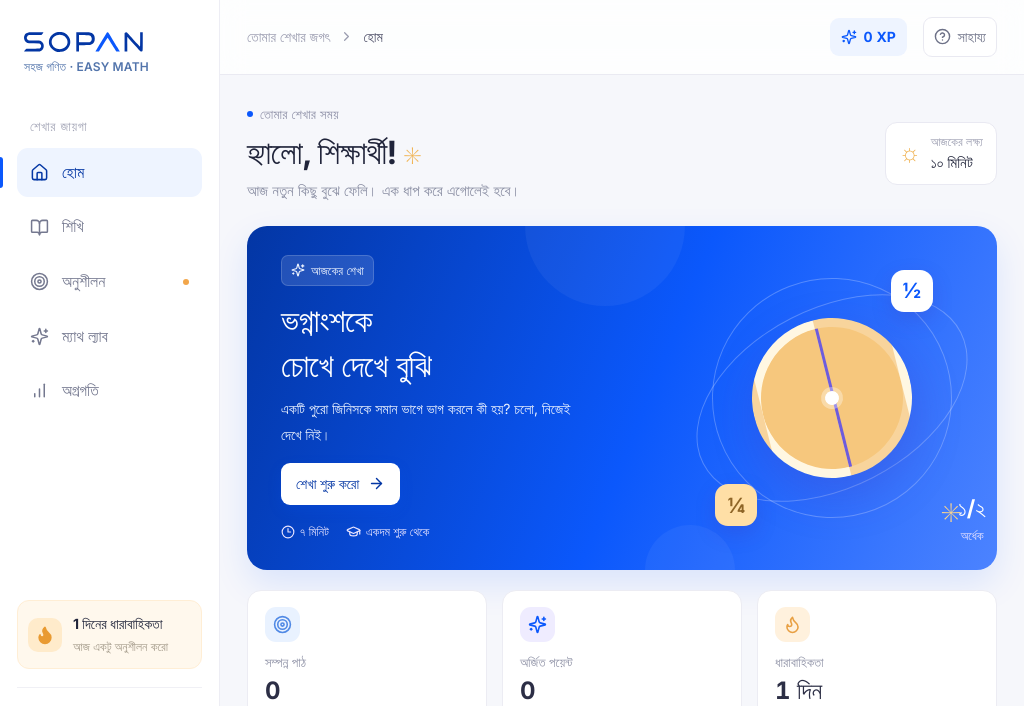
it: Easy Math learning flow › lets learners explore shape properties instead of only reading definitions
Step 1. Click the button "শিখি" → (110, 227), box [17,202,202,252]
(page scrolled)
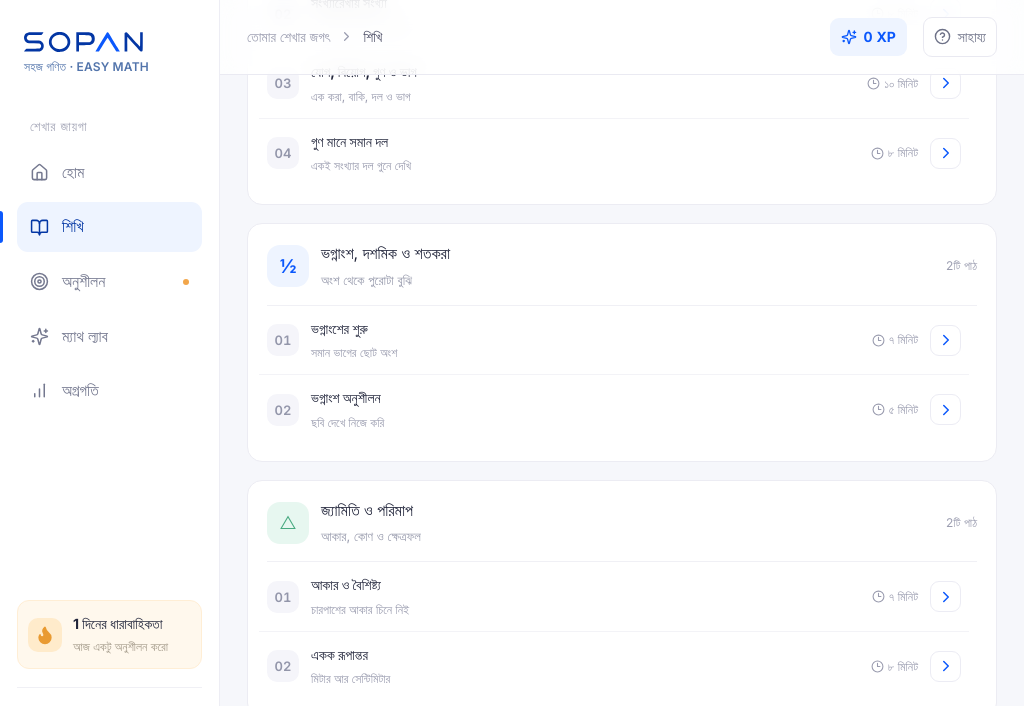
Step 2. Click the button with aria-label "আকার ও বৈশিষ্ট্য খুলুন" → (283, 597), box [259,562,969,632]
(page scrolled)
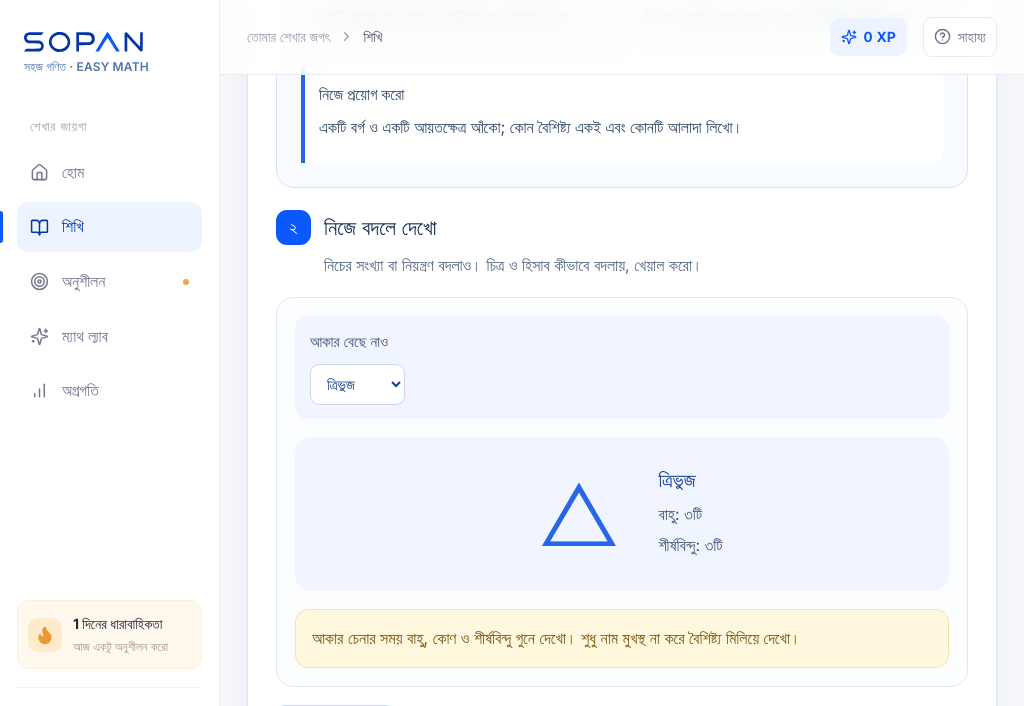
Expected: the dropdown labelled "আকার বেছে নাও" is shown
Step 3. Select "বর্গ" in the dropdown labelled "আকার বেছে নাও" → (358, 385), box [310,364,405,406]
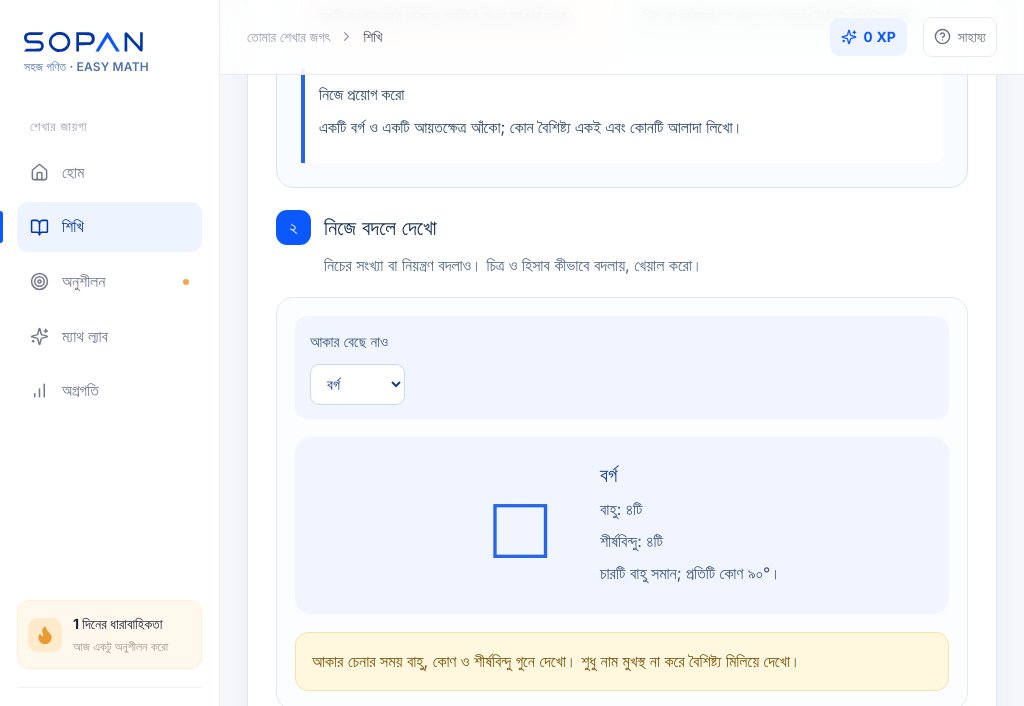
Expected: the text "চারটি বাহু সমান; প্রতিটি কোণ ৯০°।" is shown, [600,561,781,586]
